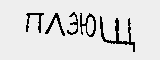Л: (46, 13, 66, 39)
П: (25, 10, 43, 37)
Щ: (96, 14, 139, 54)
Э: (68, 11, 80, 37)
Ю: (76, 11, 98, 37)
